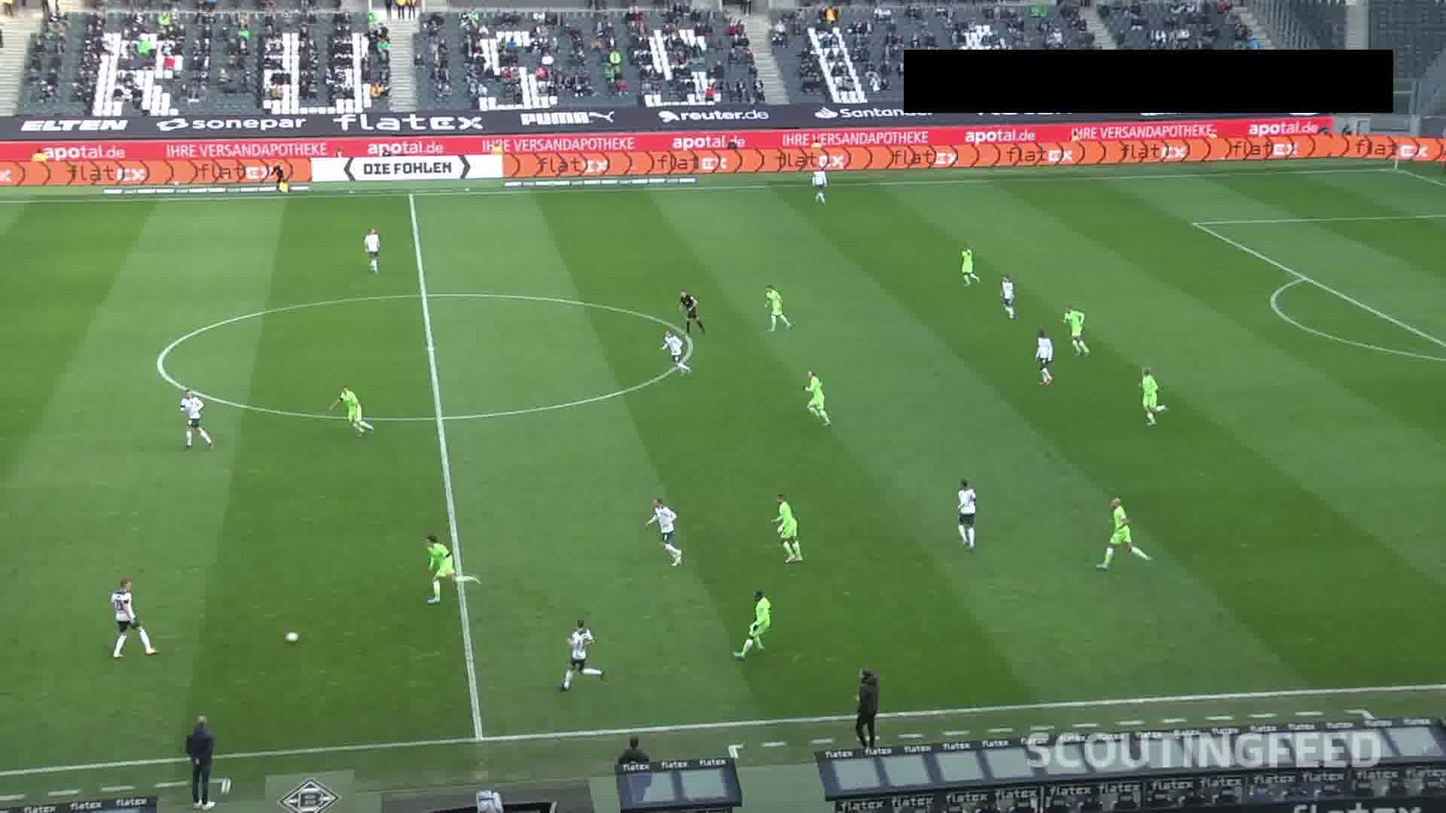ball: (279, 629, 309, 650)
coach_staff: (180, 716, 222, 808), (854, 661, 892, 749)
player: (415, 535, 489, 609), (106, 579, 160, 661), (1094, 495, 1148, 576), (560, 616, 611, 692), (768, 492, 815, 570), (737, 593, 779, 664), (327, 383, 377, 439), (653, 499, 691, 569), (177, 386, 211, 459), (804, 366, 838, 426), (1139, 365, 1172, 425), (955, 478, 982, 549), (358, 222, 390, 278), (761, 281, 794, 335), (662, 326, 695, 379), (1064, 300, 1093, 354), (958, 237, 985, 290), (1036, 329, 1057, 383), (807, 164, 834, 205)
referee: (673, 281, 711, 330), (269, 157, 299, 200)
